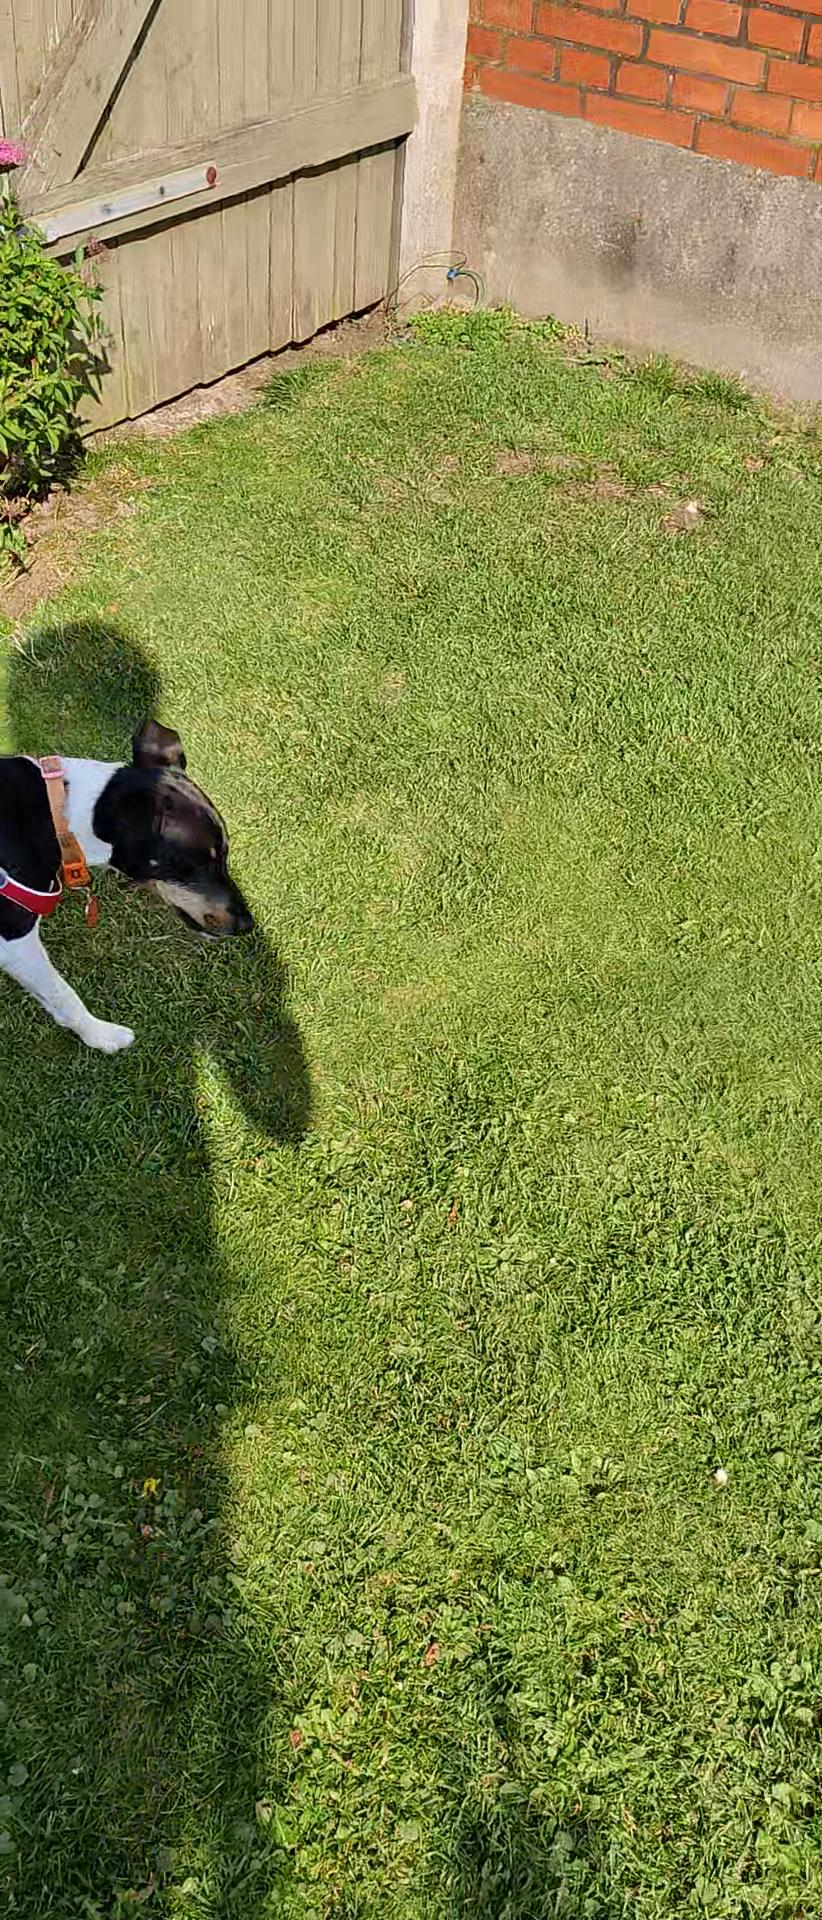Dog: (0, 691, 268, 1082)
